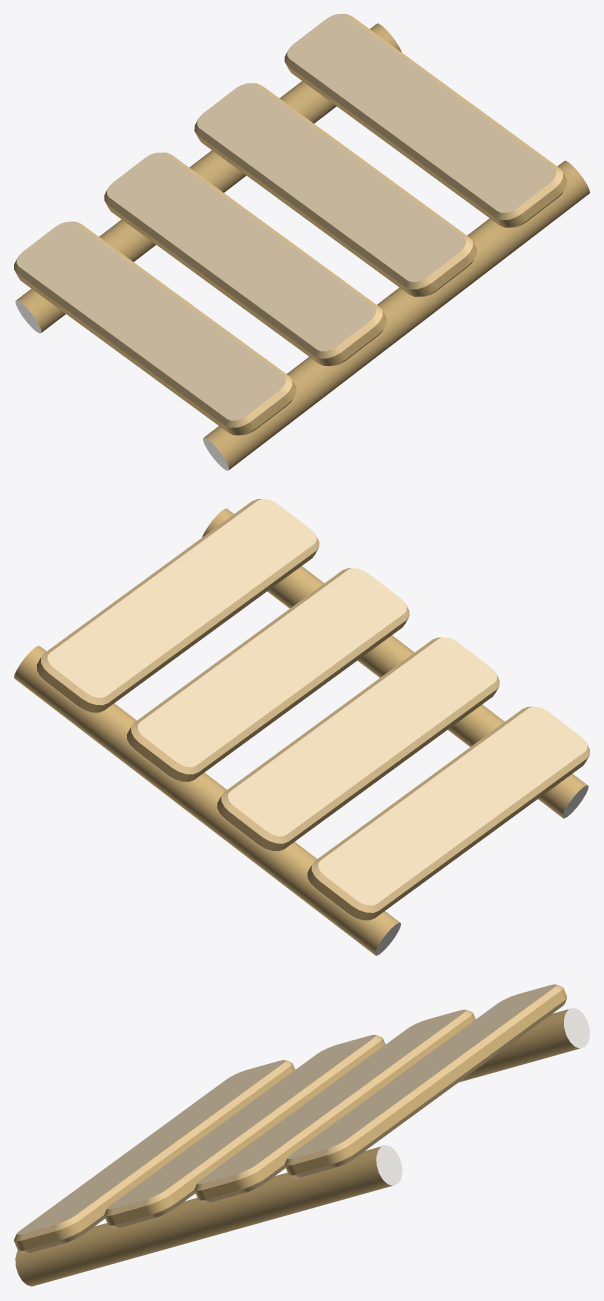
The model's file is wideInclineBridge.glb.
3 renders of one model, top to bottom at view 1: azimuth 30°, elevation 25°; view 2: azimuth 150°, elevation 25°; view 3: azimuth 330°, elevation 25°, orthographic.
Visible parts, largest first — view 1: Wood_Light, Log, Wood_Medium, Wood_Dark, Hidden; view 2: Wood_Light, Log, Wood_Medium, Wood_Dark, Hidden; view 3: Wood_Light, Log, Wood_Medium, Wood_Dark, Hidden.
Part boxes in pixels (box(x1,y1,x2,y2)): Wood_Light: box(16, 14, 556, 420); Log: box(16, 23, 589, 469); Wood_Medium: box(14, 14, 563, 435); Wood_Dark: box(15, 63, 567, 435); Hidden: box(15, 300, 228, 470); Wood_Light: box(47, 499, 587, 905); Log: box(14, 508, 587, 954); Wood_Medium: box(40, 499, 589, 920); Wood_Dark: box(36, 548, 588, 920); Hidden: box(375, 785, 588, 955); Wood_Light: box(16, 984, 556, 1234); Log: box(15, 1009, 579, 1286); Wood_Medium: box(14, 984, 566, 1253); Wood_Dark: box(14, 987, 566, 1250); Hidden: box(376, 1008, 589, 1185).
Size of the model in its own units: 2.09 by 1.22 by 2.2.
